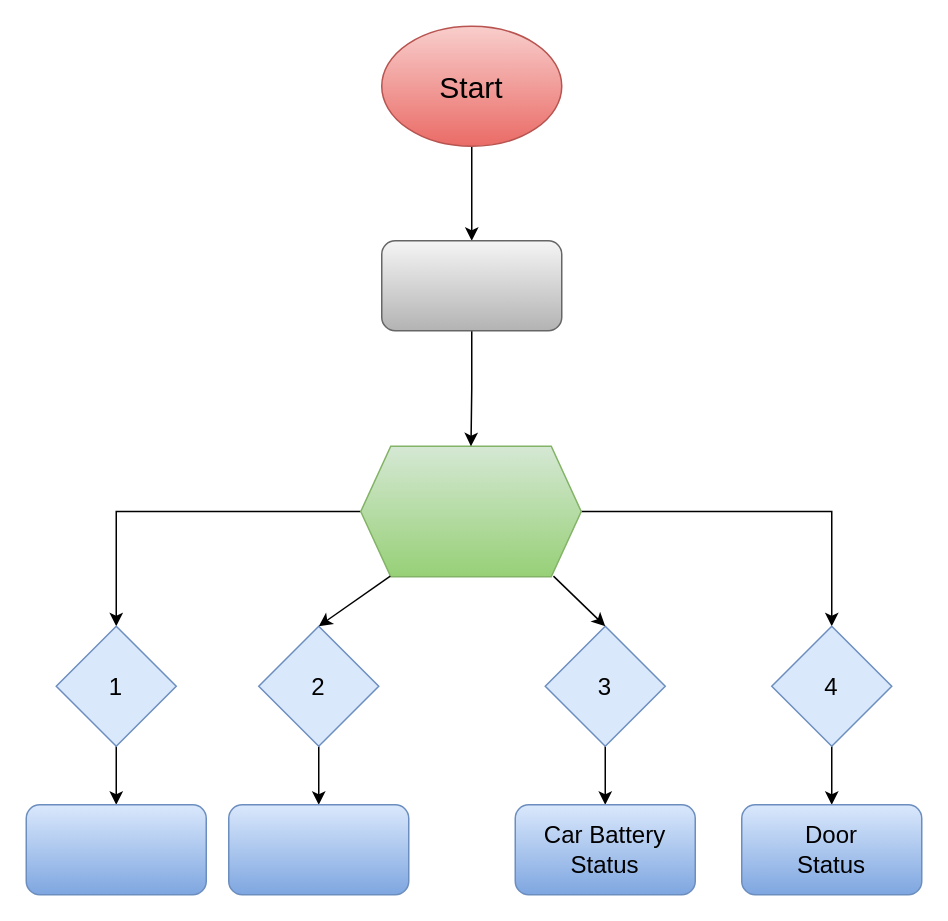
This 948x921 diagram has some shape labels left out. The centre of each missing label's shape, as x and y in pixels:
Alarm Status: point 318,849
Button Conditions: point 470,511
Press The Button: point 471,285
Window Status: point 115,849
